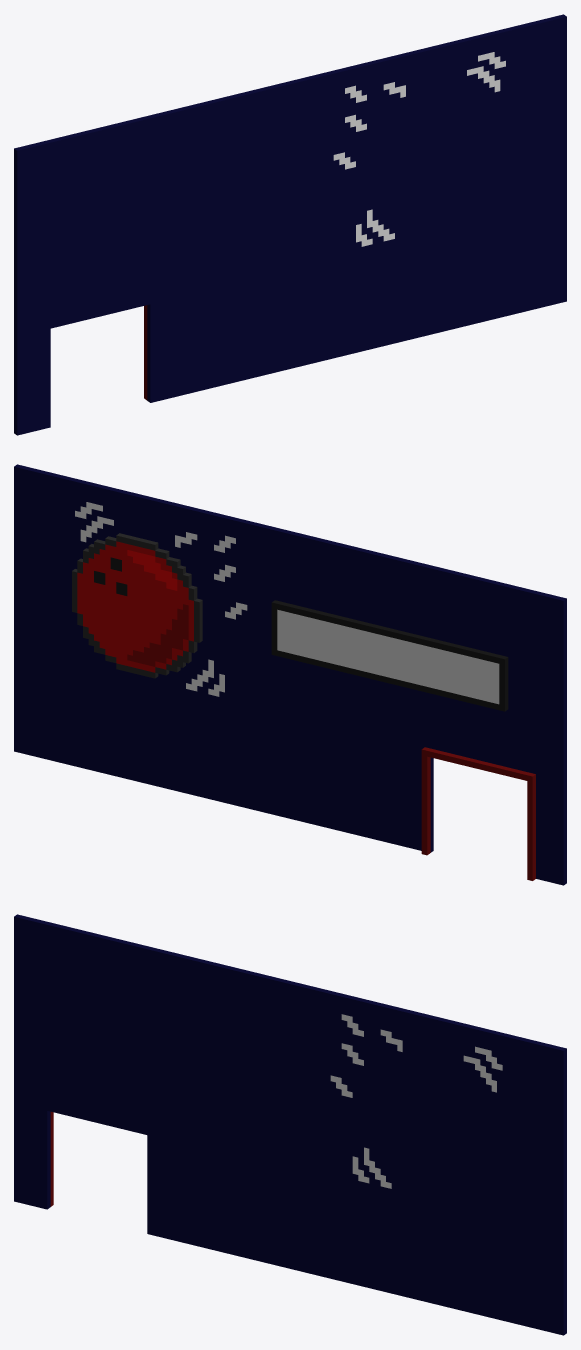
File: Bowling no details-3.obj
3 views of the same model, one above another, from view 1: azimuth 30°, elevation 25°; view 2: azimuth 150°, elevation 25°; view 3: azimuth 330°, elevation 25° (orthographic).
Parts seen in each view (by area): view 1: Bowling no details-3; view 2: Bowling no details-3; view 3: Bowling no details-3.
Part boxes in pixels (x1,y1,x2,y2): Bowling no details-3: (14, 14, 566, 435); Bowling no details-3: (14, 464, 566, 885); Bowling no details-3: (14, 914, 566, 1335).
Size of the model in its own units: 99 by 49 by 2.
Materials: 1 (1 with a texture image).
